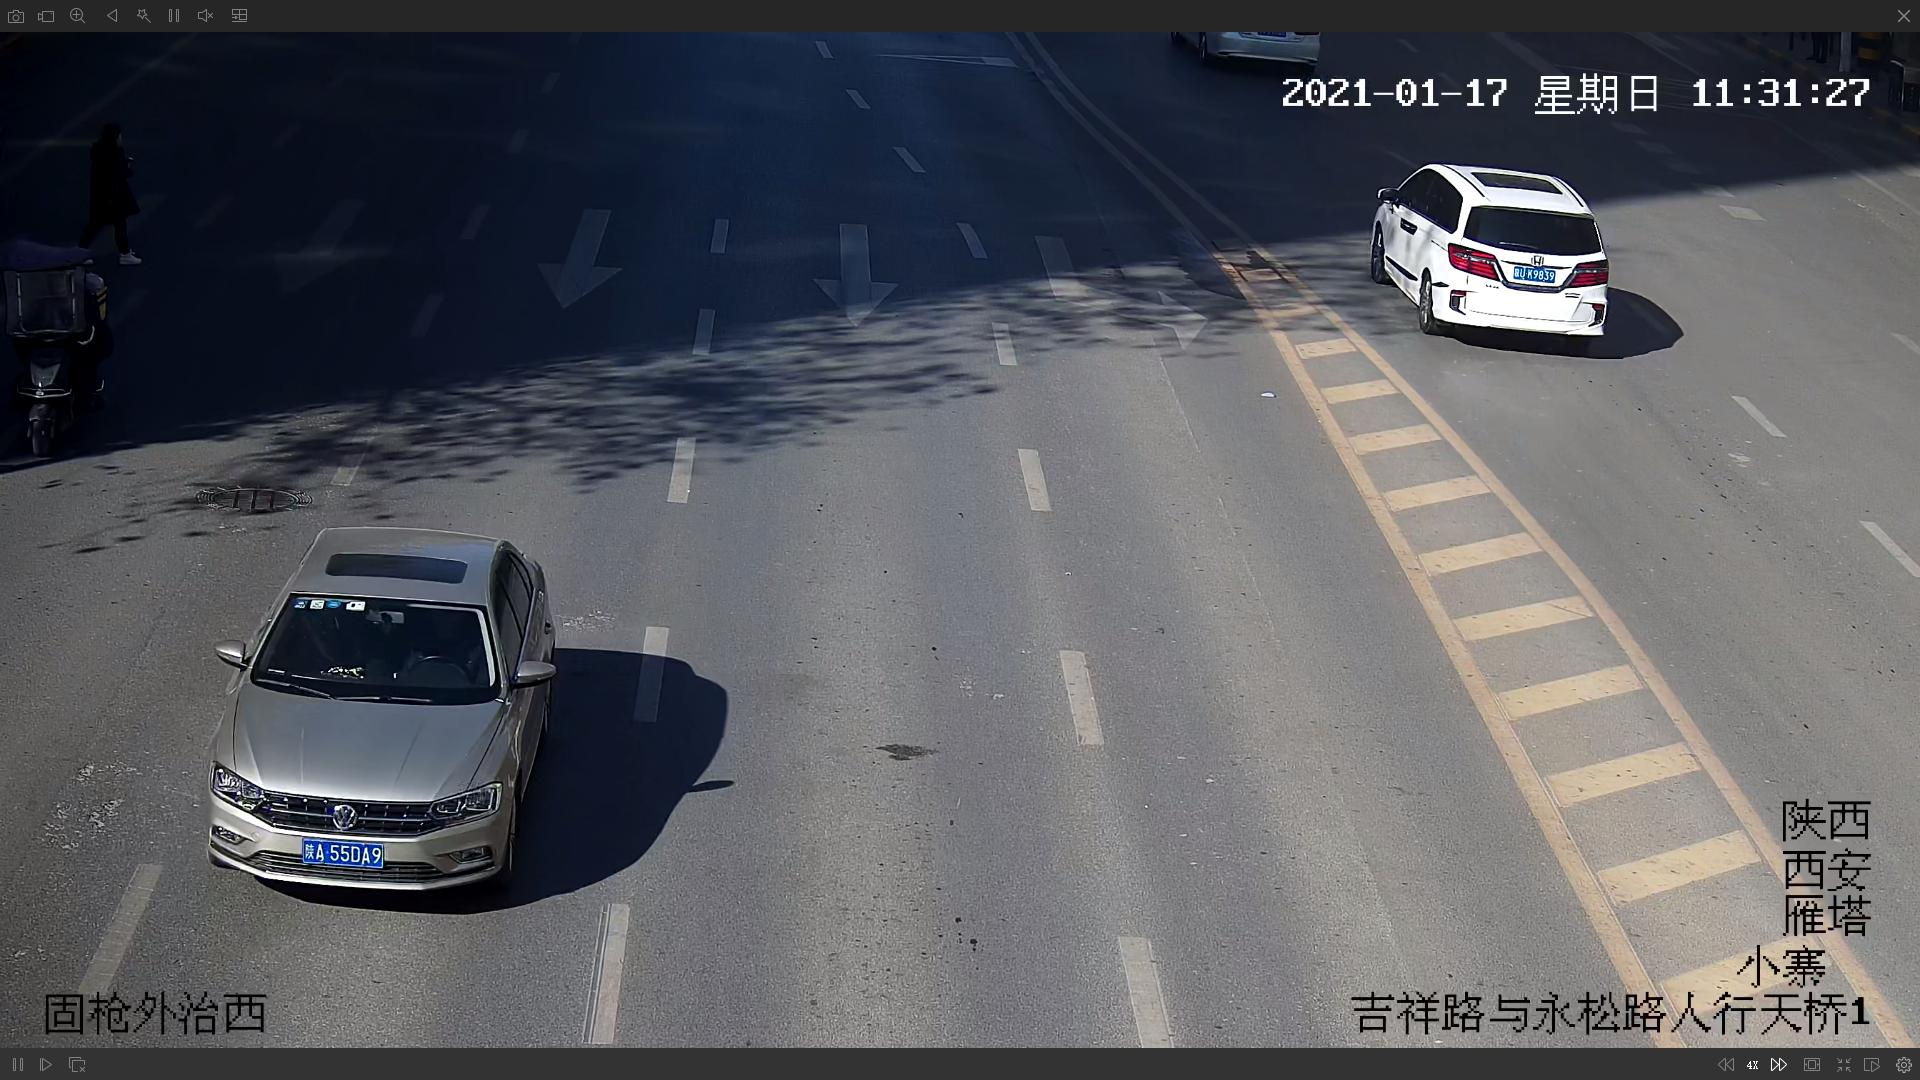silver-gray: (204, 520, 562, 890)
white: (1366, 156, 1613, 348)
